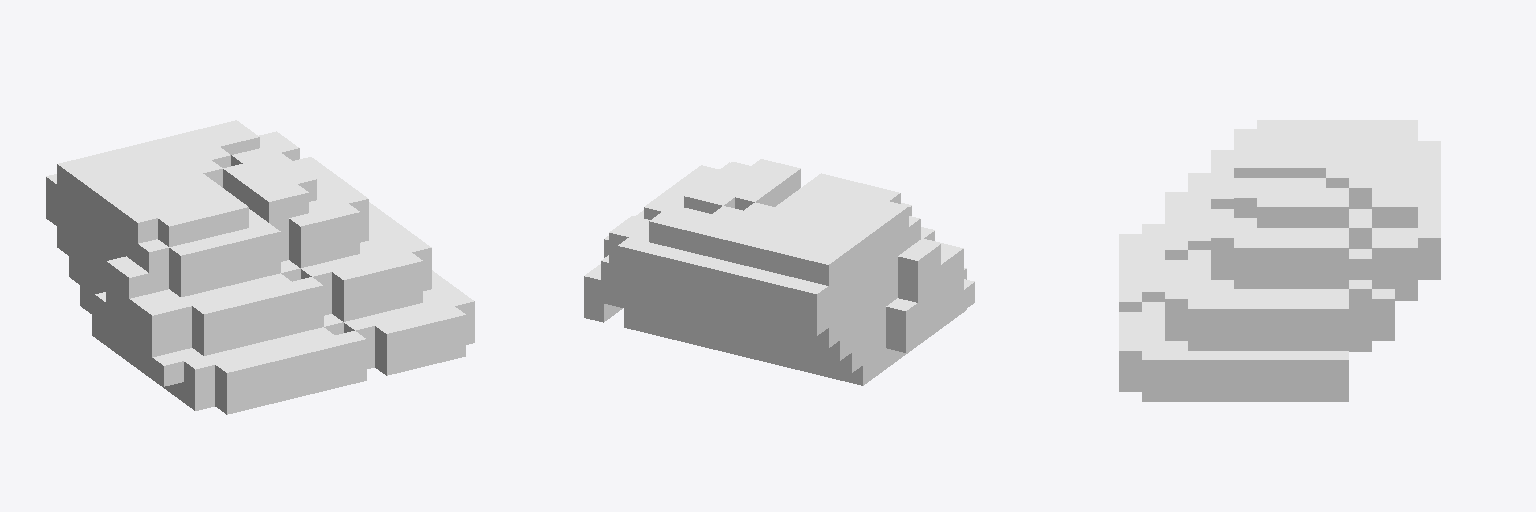
The model's file is Arm-10.obj.
3 renders of one model, left to right at view 1: azimuth 30°, elevation 25°; view 2: azimuth 150°, elevation 25°; view 3: azimuth 270°, elevation 25°, orthographic.
Parts seen in each view (by area): view 1: object 1; view 2: object 1; view 3: object 1.
Boxes of the visible parts, x1=… form: object 1: x1=46, y1=120, x2=474, y2=414; object 1: x1=584, y1=159, x2=974, y2=385; object 1: x1=1119, y1=120, x2=1440, y2=401.
Size of the model in its own units: 1.5 by 0.7 by 1.4.